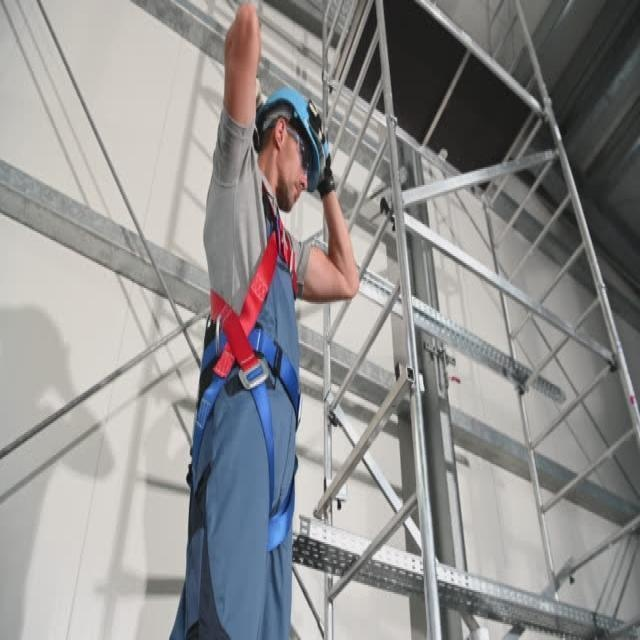Arnes_seguridad: (187, 184, 289, 547)
